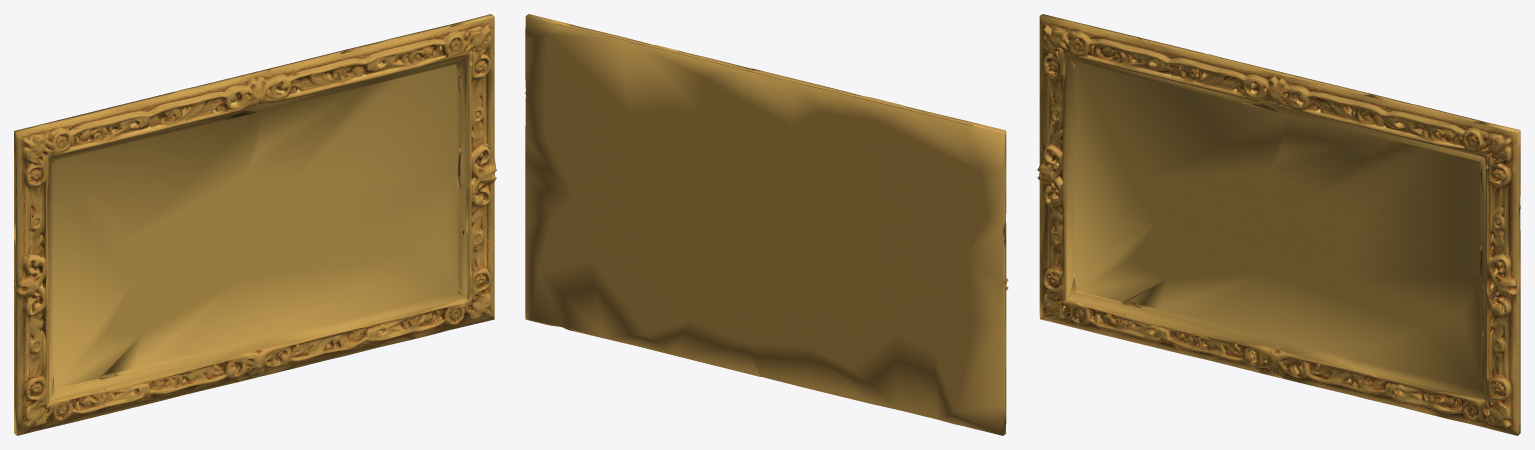
The model's file is plaque_label.glb.
The picture shows the model from 3 angles, left to right: view 1: azimuth 30°, elevation 25°; view 2: azimuth 150°, elevation 25°; view 3: azimuth 330°, elevation 25°; orthographic projection.
Bounding box in the file's own units: 1.91 × 1.16 × 0.0532.
1 material, 1 textured.
